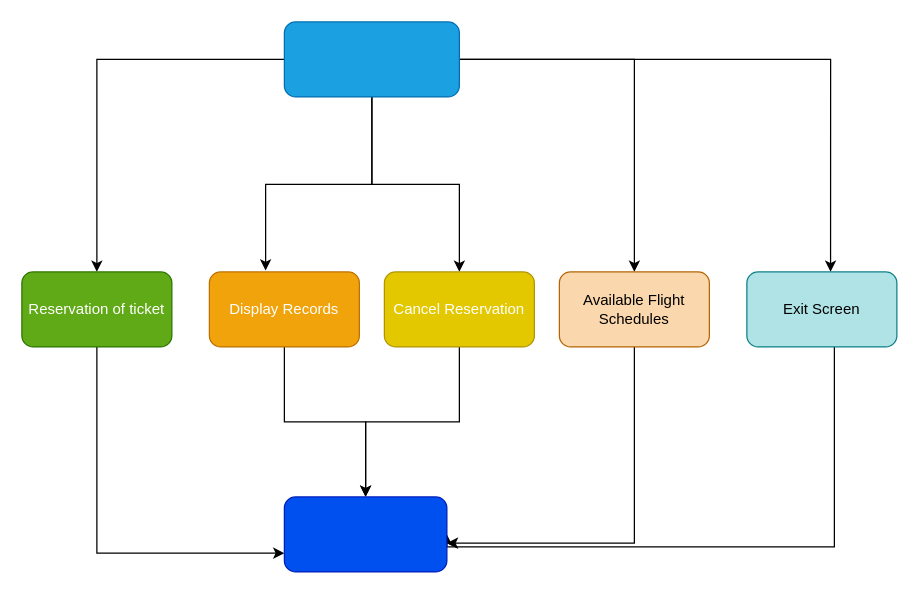
Image size: 919x594. Some labels were removed from this diagram. The box of each missing label's shape, as (x1, y1, x2, y2) in pixels:
Save File: (283, 496, 447, 572)
Terminal: (283, 21, 459, 97)
